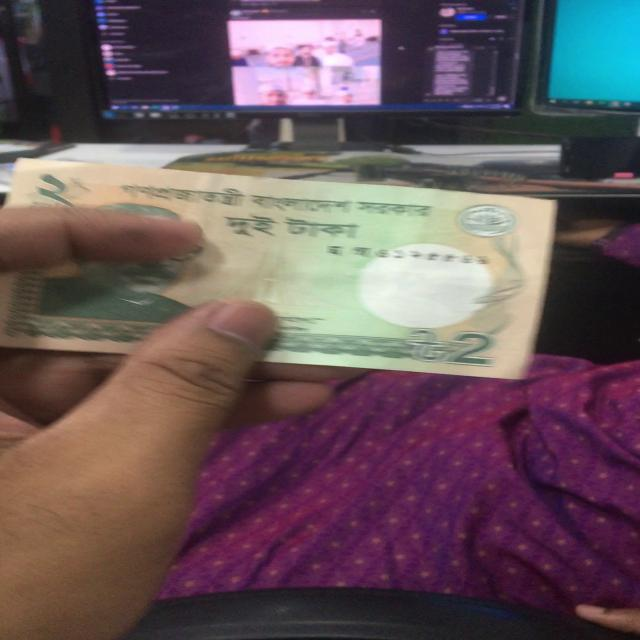Taka: (9, 153, 535, 384)
